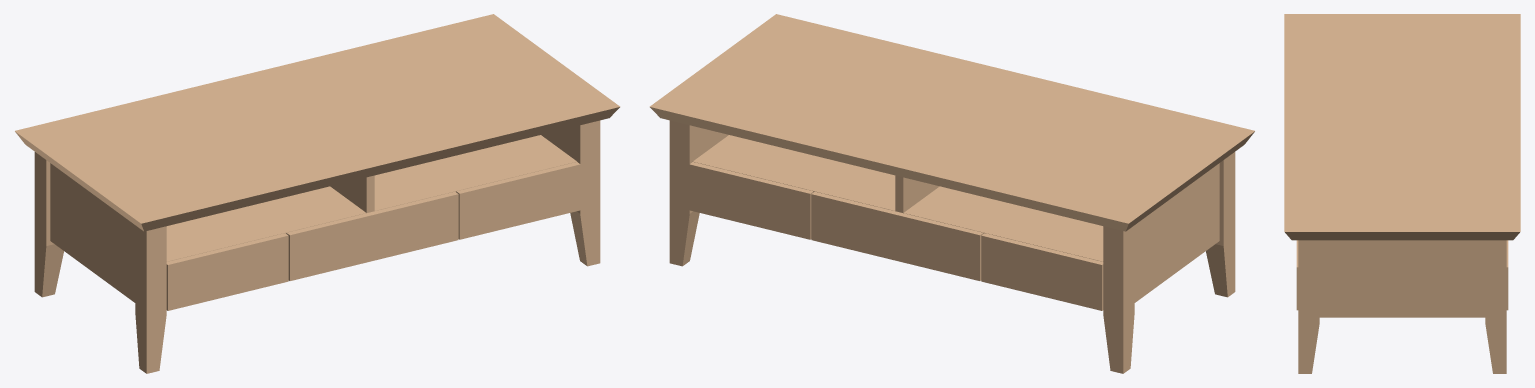
The model's file is 401_センターテーブル.glb.
3 views of the same model, side by side, from view 1: azimuth 30°, elevation 25°; view 2: azimuth 150°, elevation 25°; view 3: azimuth 270°, elevation 25° (orthographic). The views are drawn at different scales.
Visible parts, largest first — view 1: 401_センターテーブル, 引き出し前中, 引き出し前右, 引き出し前左; view 2: 401_センターテーブル, 引き出し後中, 引き出し後左, 引き出し後右; view 3: 401_センターテーブル, 引き出し前右, 引き出し後左.
Part boxes in pixels (box(x1,y1,x2,y2)): 401_センターテーブル: box(15, 14, 620, 373); 引き出し前中: box(286, 191, 458, 280); 引き出し前右: box(456, 162, 580, 239); 引き出し前左: box(166, 233, 288, 310); 401_センターテーブル: box(649, 14, 1254, 373); 引き出し後中: box(811, 191, 983, 280); 引き出し後左: box(689, 162, 813, 239); 引き出し後右: box(981, 233, 1103, 310); 401_センターテーブル: box(1284, 14, 1520, 373); 引き出し前右: box(1296, 240, 1298, 310); 引き出し後左: box(1506, 240, 1508, 310).
Bounding box in the file's own units: 1.2 × 0.38 × 0.55.
